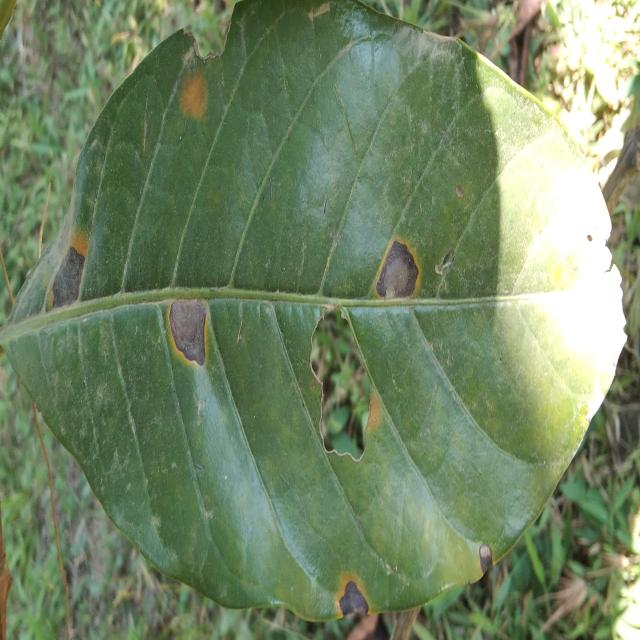Enfermedad-Mancha-de-hierro: (0, 12, 627, 621)
